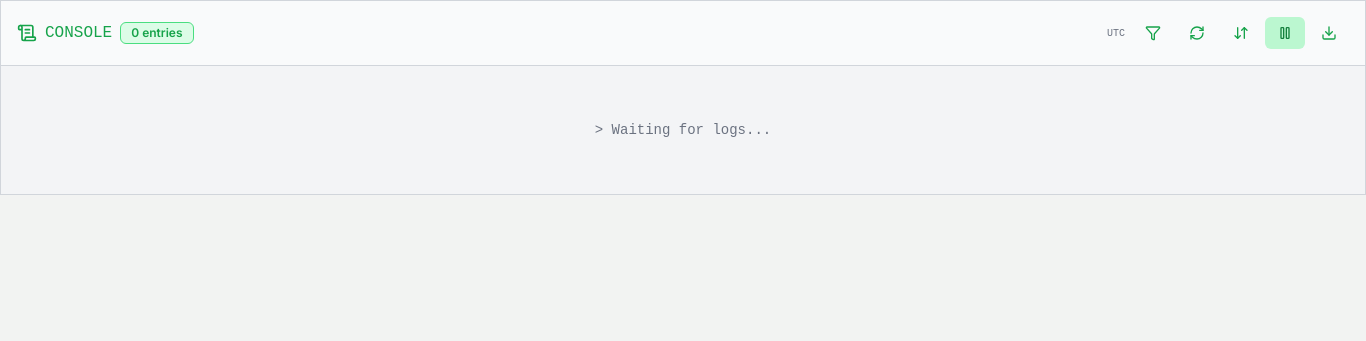
Test: ConsoleInterface › filter panel › toggles filter panel visibility
Expected: the field with placeholder "Search logs..." is not shown
Click the 1st button at (1153, 33), box [1133, 17, 1173, 49]
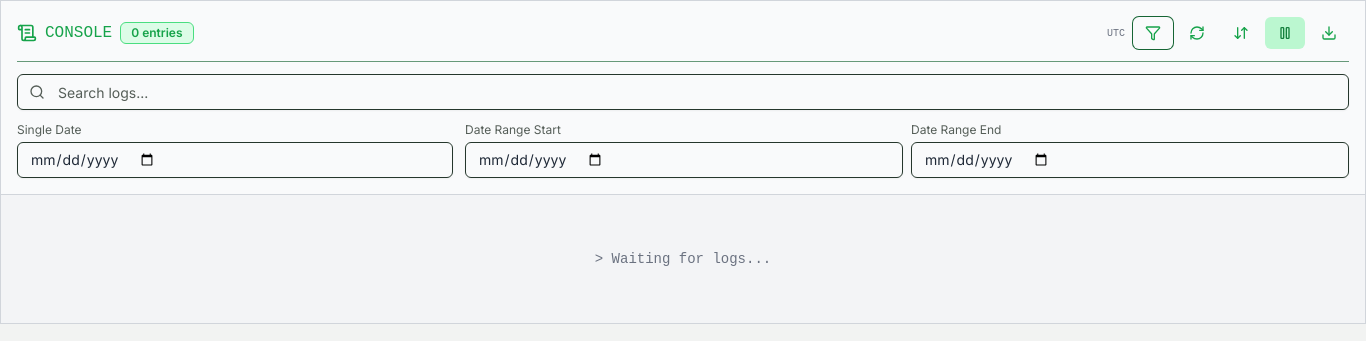
Expected: the field with placeholder "Search logs..." is shown, [17, 74, 1349, 110]
